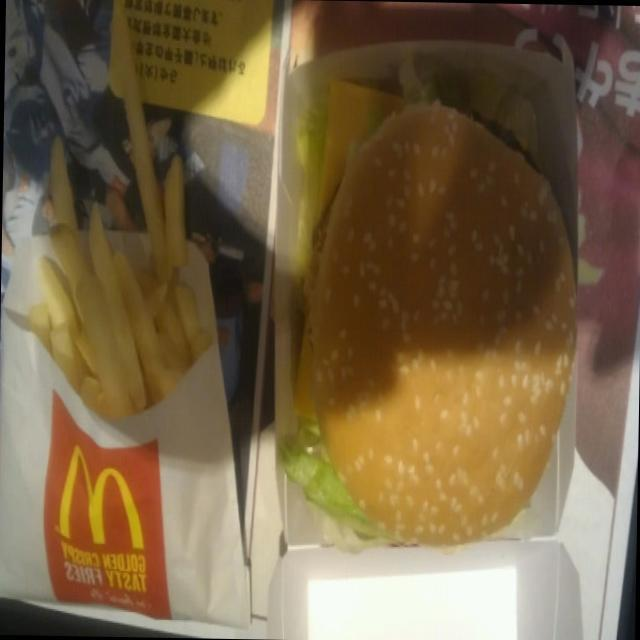Hamburger: (268, 62, 585, 562)
